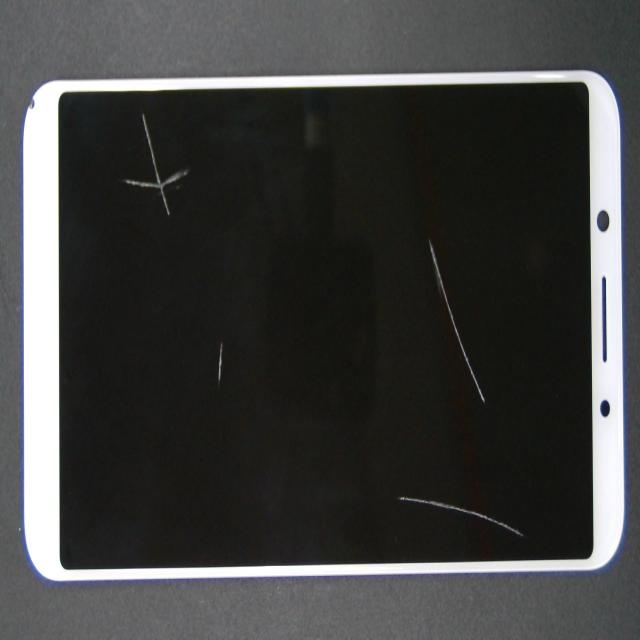scratch: (343, 303, 640, 640), (284, 282, 640, 500), (121, 123, 323, 489), (104, 189, 242, 301)
